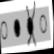correct: (13, 18, 22, 40)
not correct: (24, 0, 39, 49)
